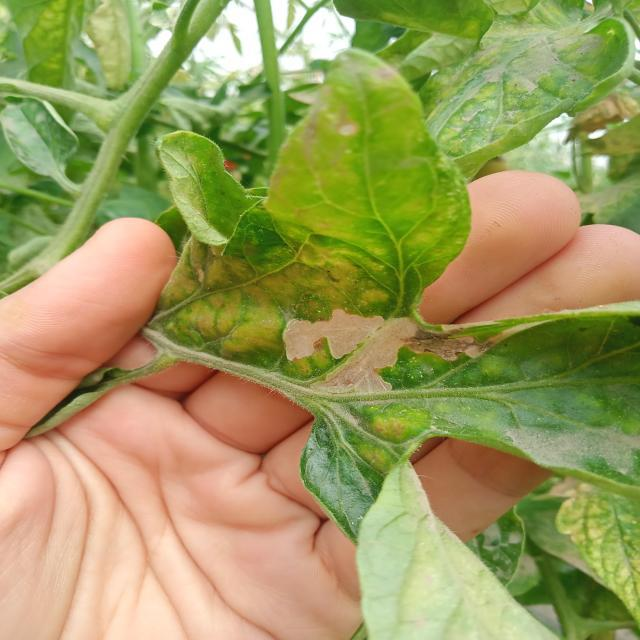Tuta absoluta: (281, 307, 485, 399)
